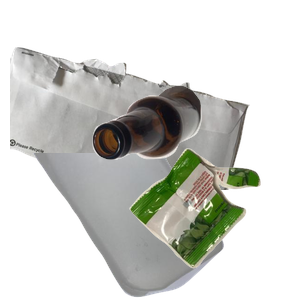glass: (90, 83, 300, 235)
paper: (10, 45, 250, 225)
plastic: (29, 153, 245, 300)
trash: (127, 146, 300, 300)
